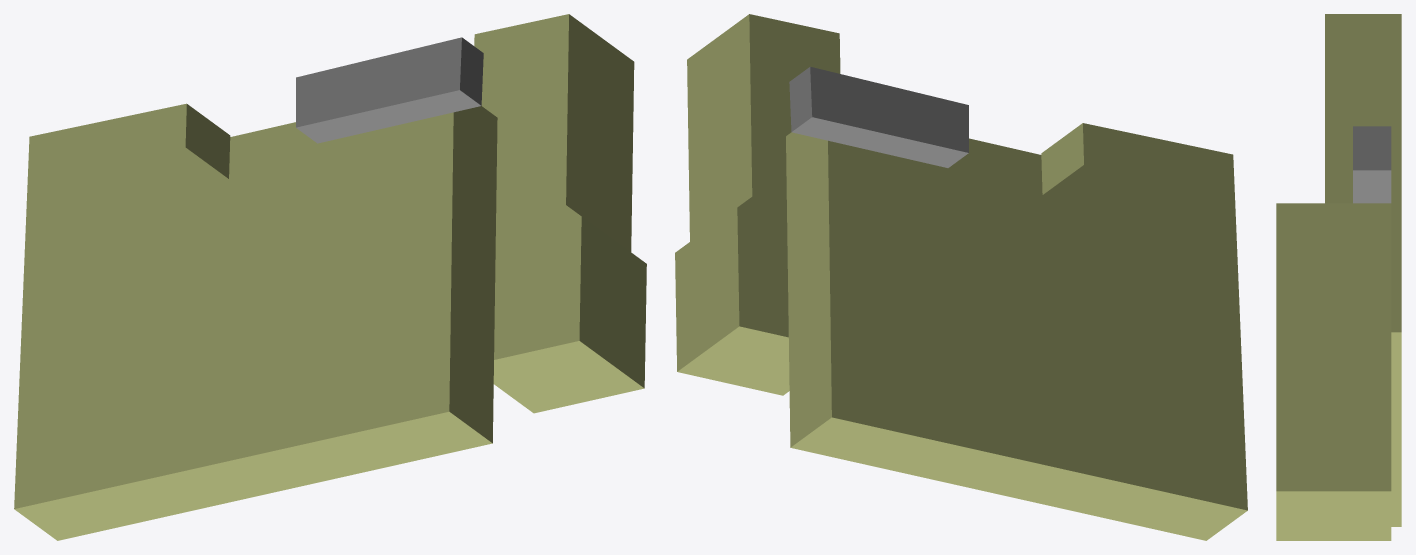
The picture shows the model from 3 angles, left to right: view 1: azimuth 30°, elevation 25°; view 2: azimuth 150°, elevation 25°; view 3: azimuth 270°, elevation 25°; orthographic projection. The views are drawn at different scales.
Parts seen in each view (by area): view 1: 0_1_0_0_2_2_1_2_1; view 2: 0_1_0_0_2_2_1_2_1; view 3: 0_1_0_0_2_2_1_2_1.
Boxes of the visible parts, x1,y1,x2,y2 form: 0_1_0_0_2_2_1_2_1: (14,14,646,540); 0_1_0_0_2_2_1_2_1: (675,14,1247,540); 0_1_0_0_2_2_1_2_1: (1276,14,1401,540).
Bounding box in the file's own units: 44.77 × 28.75 × 9.8.
